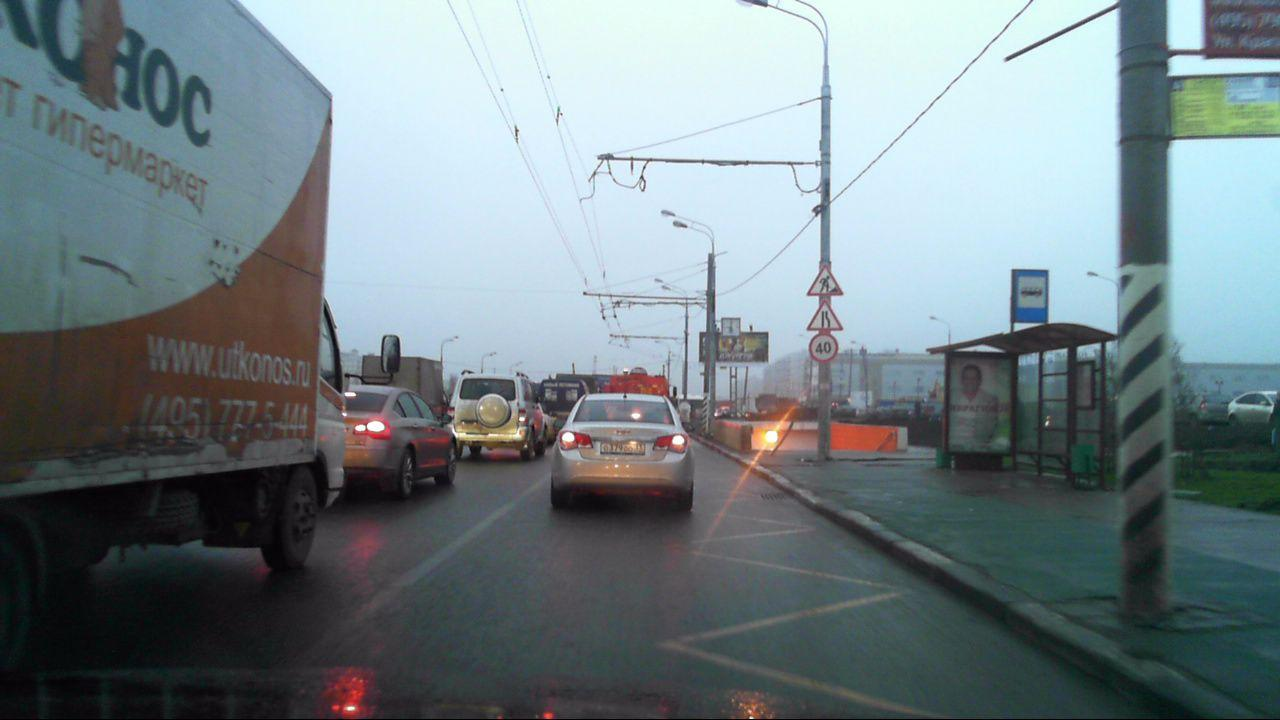1_20_2: (807, 299, 842, 330)
1_25: (807, 267, 842, 297)
3_24: (809, 332, 839, 361)
5_16: (1009, 267, 1048, 323)
